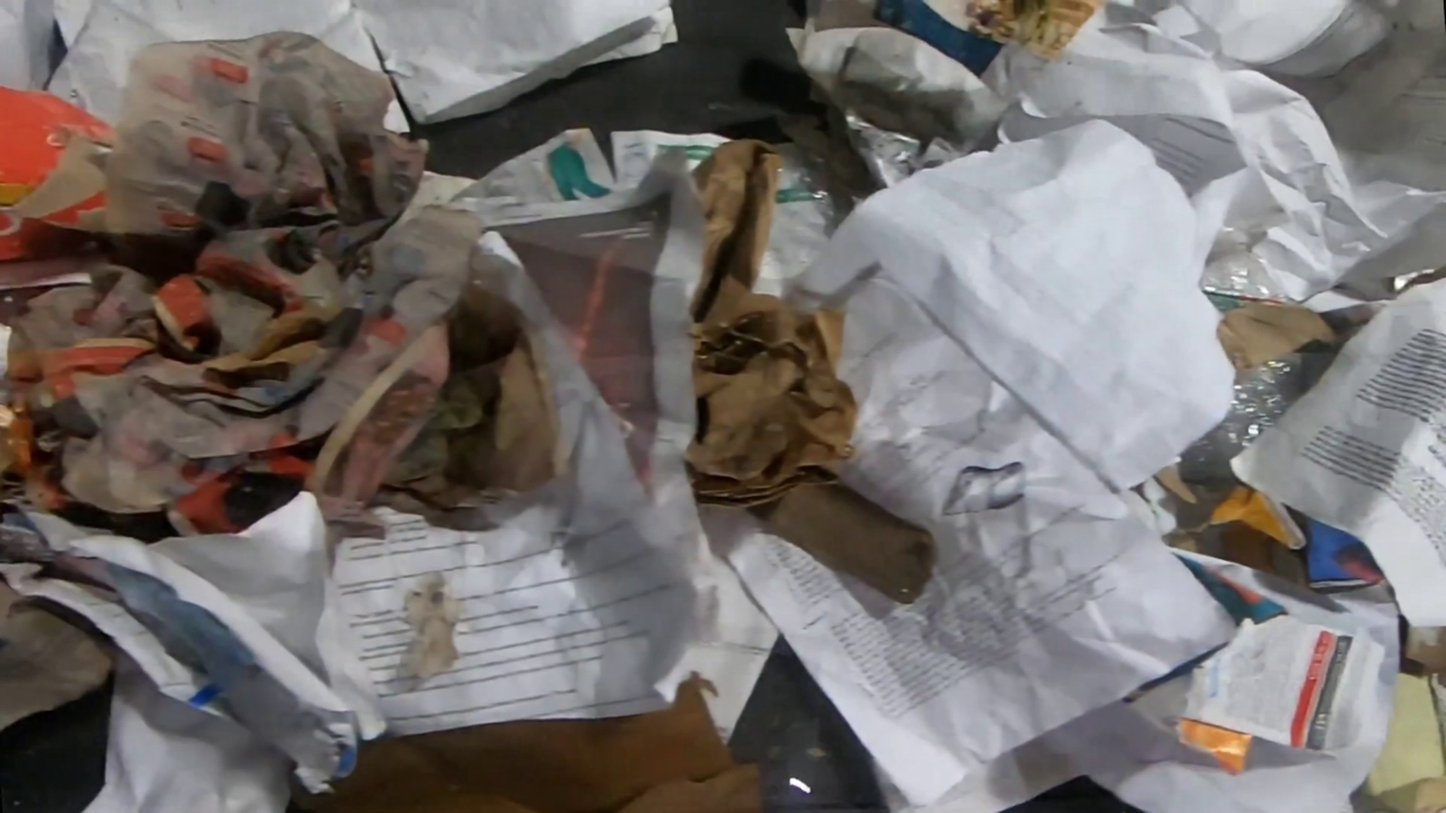cardboard: (287, 670, 765, 813), (0, 83, 118, 294), (756, 485, 939, 607), (0, 570, 122, 735), (1161, 485, 1313, 591), (1217, 301, 1344, 383), (1400, 621, 1446, 692), (1153, 459, 1202, 506)
plastic: (466, 262, 648, 552), (1175, 346, 1338, 487), (758, 143, 853, 280), (1199, 223, 1302, 306), (765, 720, 823, 813), (1387, 261, 1446, 297)
